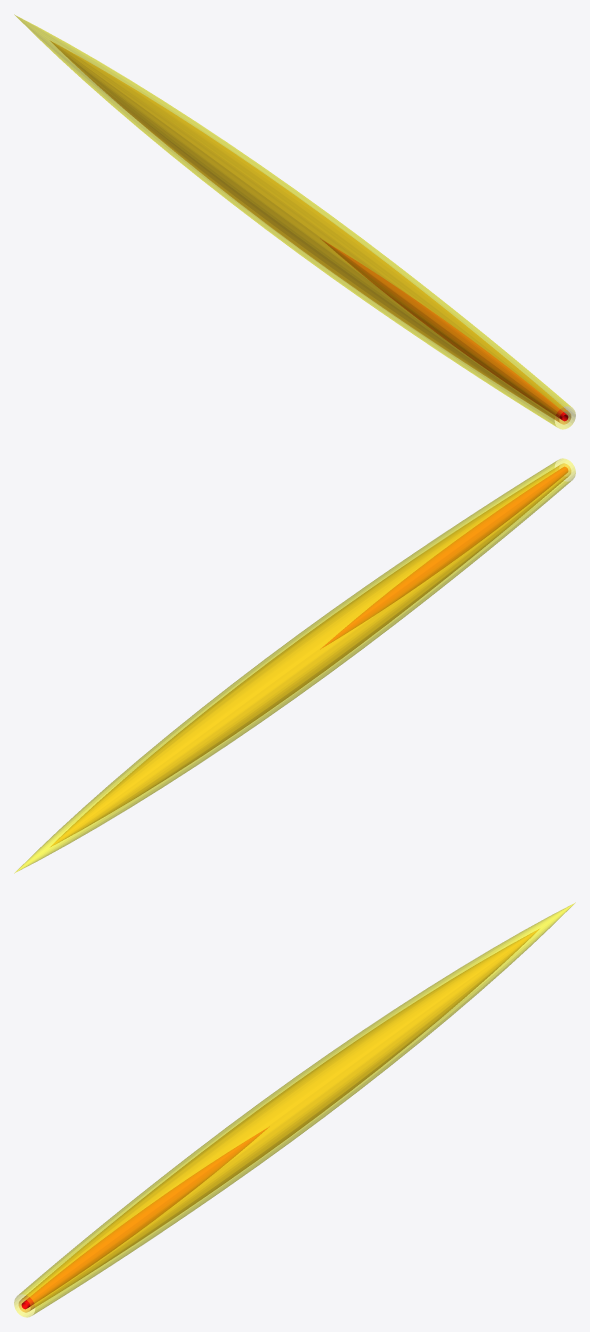
The model's file is Thruster4.obj.
The picture shows the model from 3 angles, top to bottom: view 1: azimuth 30°, elevation 25°; view 2: azimuth 150°, elevation 25°; view 3: azimuth 330°, elevation 25°; orthographic projection.
Parts seen in each view (by area): view 1: Thruster4-SKP--Yellow2, Thruster4-SKP--Orange, Thruster4-SKP--Red; view 2: Thruster4-SKP--Yellow2, Thruster4-SKP--Orange, Thruster4-SKP--Red; view 3: Thruster4-SKP--Yellow2, Thruster4-SKP--Orange, Thruster4-SKP--Red.
Boxes of the visible parts, x1=… form: Thruster4-SKP--Yellow2: x1=14, y1=14, x2=575, y2=429; Thruster4-SKP--Orange: x1=50, y1=41, x2=571, y2=424; Thruster4-SKP--Red: x1=322, y1=240, x2=568, y2=421; Thruster4-SKP--Yellow2: x1=14, y1=458, x2=575, y2=873; Thruster4-SKP--Orange: x1=50, y1=463, x2=570, y2=846; Thruster4-SKP--Red: x1=322, y1=467, x2=567, y2=647; Thruster4-SKP--Yellow2: x1=14, y1=902, x2=575, y2=1317; Thruster4-SKP--Orange: x1=18, y1=929, x2=539, y2=1312; Thruster4-SKP--Red: x1=21, y1=1128, x2=267, y2=1309.
Bounding box in the file's own units: 0.4179 × 0.4254 × 9.25.
